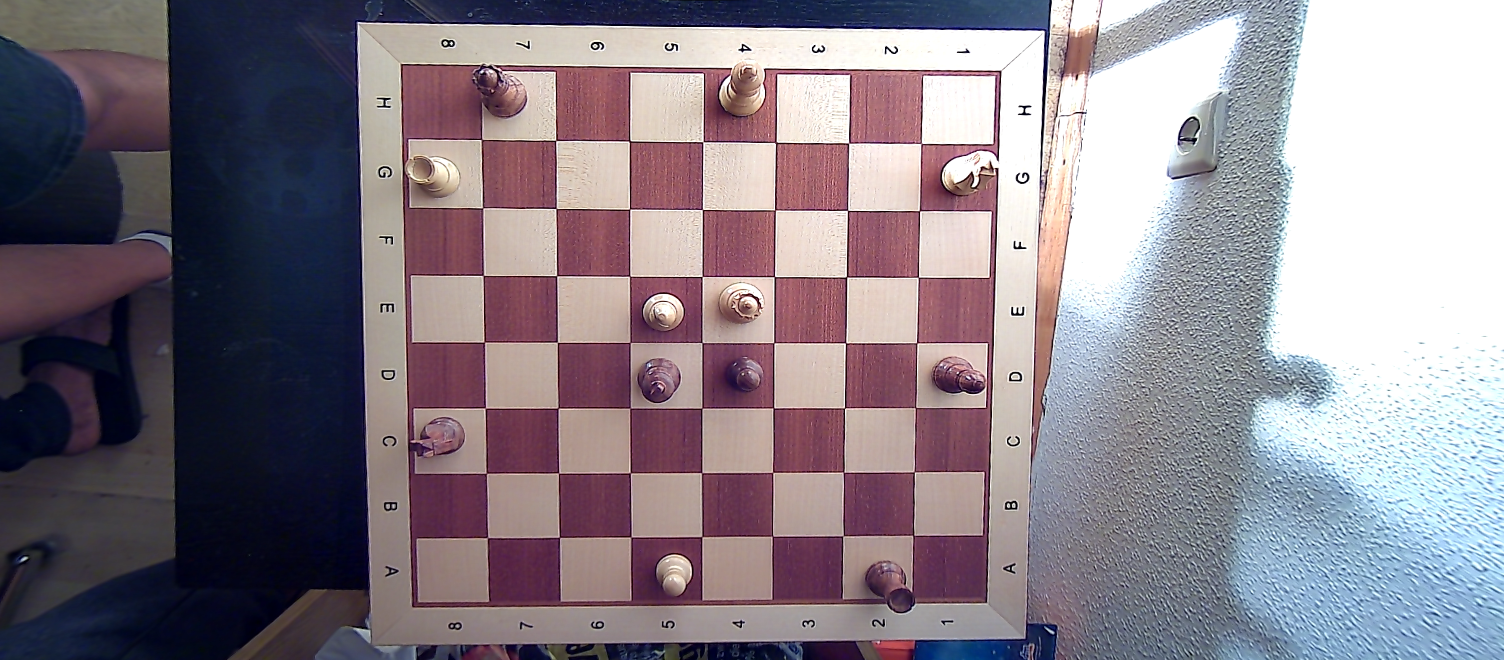black-bishop: (928, 351, 986, 403)
black-king: (635, 351, 688, 404)
black-knight: (410, 415, 470, 462)
black-pawn: (720, 350, 768, 397)
black-queen: (469, 62, 531, 122)
black-rook: (863, 554, 919, 620)
white-bishop: (637, 287, 685, 335)
white-king: (716, 57, 768, 116)
white-knight: (935, 147, 1002, 201)
white-pawn: (651, 547, 696, 599)
white-queen: (714, 278, 765, 326)
white-rook: (404, 152, 465, 200)
